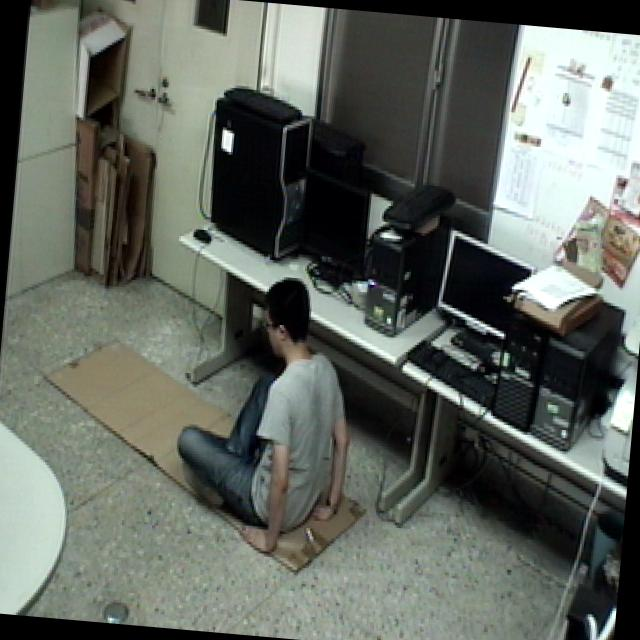sit: (158, 240, 368, 566)
